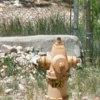Hydrant: (30, 31, 85, 100)
